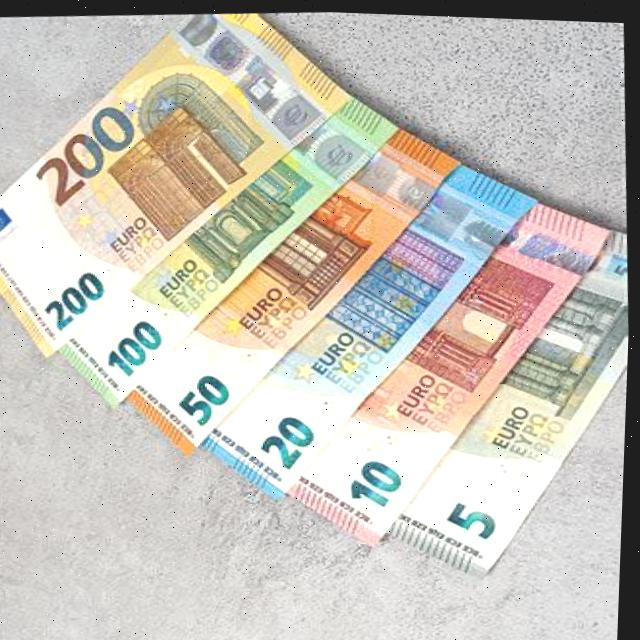banknote: (243, 177, 632, 562), (175, 142, 560, 509), (100, 108, 484, 471), (0, 0, 367, 371), (32, 79, 420, 423), (369, 214, 634, 586), (20, 92, 153, 208), (37, 261, 118, 333), (97, 309, 176, 379), (260, 400, 329, 473), (345, 447, 414, 515), (441, 489, 513, 543), (176, 365, 239, 424)
